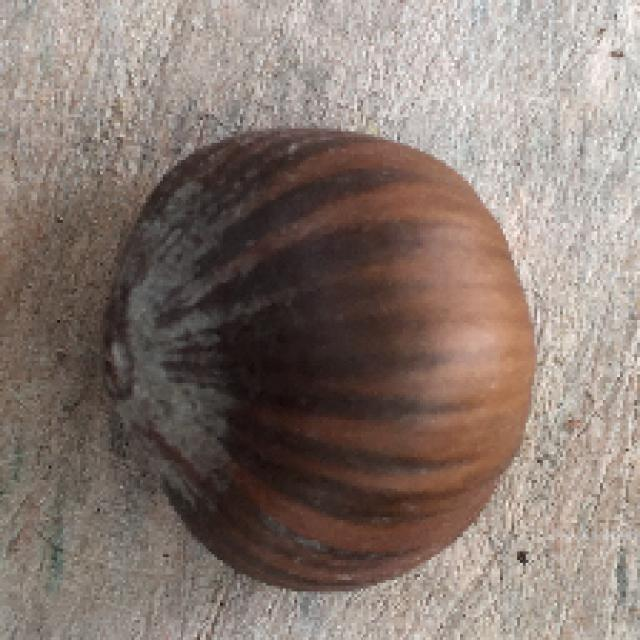damagedHazelnut: (90, 108, 548, 598)
